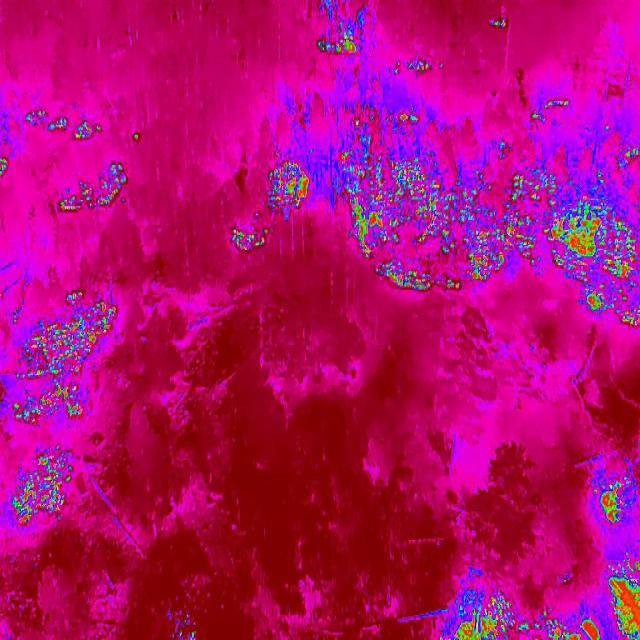fire: (326, 99, 636, 312), (0, 282, 118, 430), (8, 444, 82, 530), (49, 159, 138, 225), (447, 586, 523, 638), (262, 150, 314, 222), (25, 104, 104, 144), (314, 0, 367, 59), (517, 609, 606, 640), (608, 560, 639, 640), (599, 472, 640, 530), (226, 219, 268, 253), (391, 56, 445, 80), (618, 306, 640, 330), (486, 14, 509, 34), (0, 156, 11, 182), (130, 128, 144, 144)
